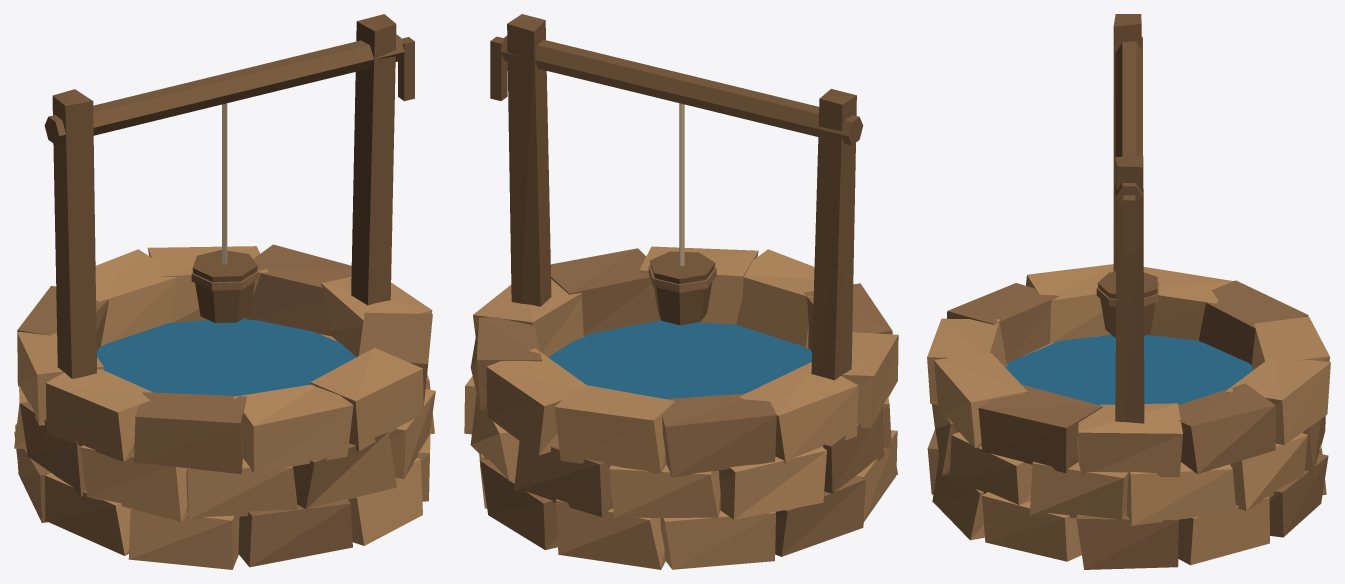
File: well.glb
3 views of the same model, side by side, from view 1: azimuth 30°, elevation 25°; view 2: azimuth 150°, elevation 25°; view 3: azimuth 270°, elevation 25° (orthographic). The views are drawn at different scales.
Parts seen in each view (by area): view 1: water, postL, postR, beam, stone_2_4, stone_2_3, stone_2_5, stone_2_2, stone_2_10, stone_0_3, stone_2_8, stone_0_4 (+18 smaller); view 2: water, postR, postL, beam, stone_2_7, stone_2_8, stone_2_6, stone_2_9, stone_2_1, stone_0_7, stone_2_3, stone_1_6 (+18 smaller); view 3: water, stone_2_1, postR, stone_2_10, stone_2_0, stone_1_10, stone_2_9, stone_0_0, stone_2_2, stone_1_0, stone_2_4, stone_0_1 (+16 smaller).
Part boxes in pixels (x1,y1,x2,y2): water: [96, 319, 356, 395]; postL: [52, 89, 96, 378]; postR: [351, 14, 396, 305]; beam: [44, 34, 404, 144]; stone_2_4: [134, 392, 246, 474]; stone_2_3: [233, 384, 353, 473]; stone_2_5: [45, 369, 152, 461]; stone_2_2: [310, 347, 423, 451]; stone_2_10: [245, 244, 351, 336]; stone_0_3: [238, 499, 352, 567]; stone_2_8: [95, 249, 176, 345]; stone_0_4: [128, 507, 239, 569]; water: [548, 320, 811, 398]; postR: [507, 14, 551, 306]; postL: [811, 89, 856, 380]; beam: [501, 35, 863, 145]; stone_2_7: [662, 393, 776, 477]; stone_2_8: [554, 385, 674, 473]; stone_2_6: [739, 362, 858, 463]; stone_2_9: [486, 348, 592, 455]; stone_2_1: [550, 248, 660, 335]; stone_0_7: [660, 510, 775, 569]; stone_2_3: [736, 249, 814, 348]; stone_1_6: [719, 447, 826, 519]; water: [1005, 335, 1253, 404]; stone_2_1: [978, 384, 1102, 473]; postR: [1115, 155, 1144, 423]; stone_2_10: [1178, 383, 1275, 473]; stone_2_0: [1077, 403, 1182, 476]; stone_1_10: [1126, 462, 1236, 525]; stone_2_9: [1225, 356, 1330, 444]; stone_0_0: [1076, 514, 1178, 569]; stone_2_2: [934, 353, 1027, 448]; stone_1_0: [1030, 461, 1128, 520]; stone_2_4: [947, 283, 1058, 364]; stone_0_1: [982, 492, 1081, 561].
Bounding box in the file's own units: 1.6 × 1.73 × 1.59.
